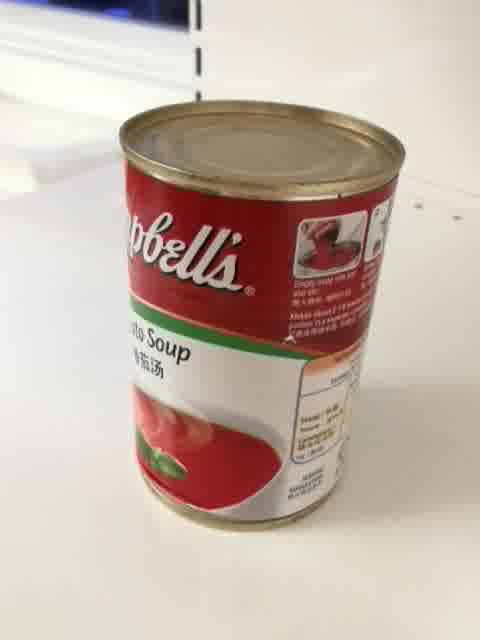tomatosoup: (115, 96, 407, 540)
